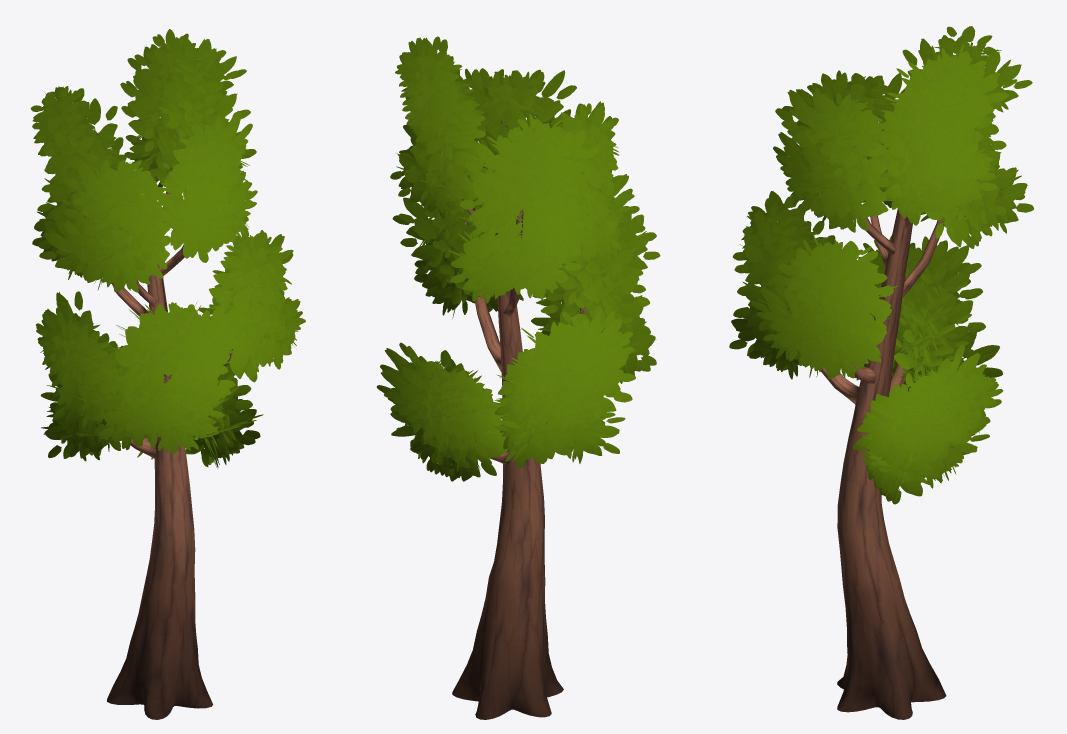
File: oak_3.glb
The picture shows the model from 3 angles, left to right: view 1: azimuth 30°, elevation 25°; view 2: azimuth 150°, elevation 25°; view 3: azimuth 270°, elevation 25°; orthographic projection. The views are drawn at different scales.
Parts seen in each view (by area): view 1: CommonTree_3; view 2: CommonTree_3; view 3: CommonTree_3.
Boxes of the visible parts, box(x1,y1,x2,y2) form: CommonTree_3: box(30, 29, 305, 719); CommonTree_3: box(376, 36, 660, 719); CommonTree_3: box(729, 26, 1033, 719).
Size of the model in its own units: 4.06 by 9.43 by 4.24.
Materials: 2 (2 with a texture image).
